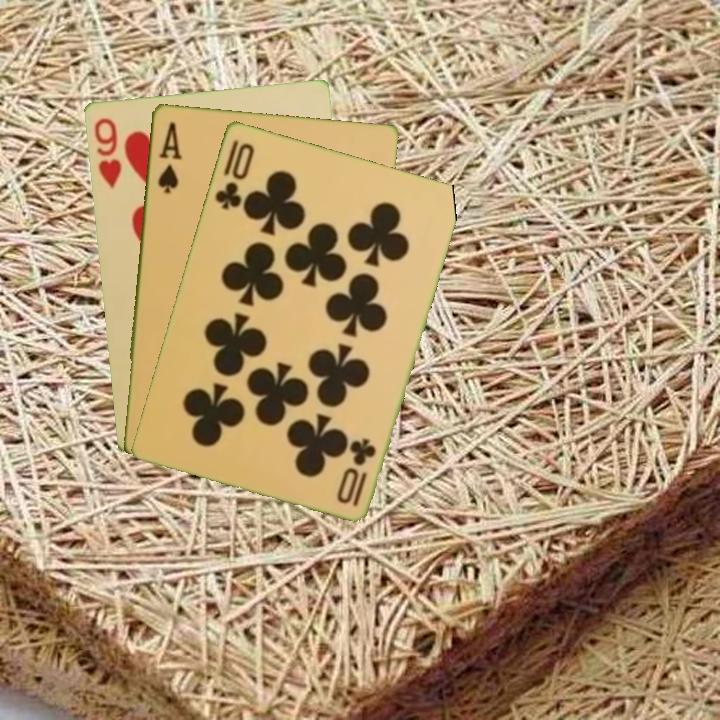10c: (211, 135, 257, 212), (334, 434, 379, 509)
9h: (90, 114, 124, 191)
As: (154, 117, 184, 195)
